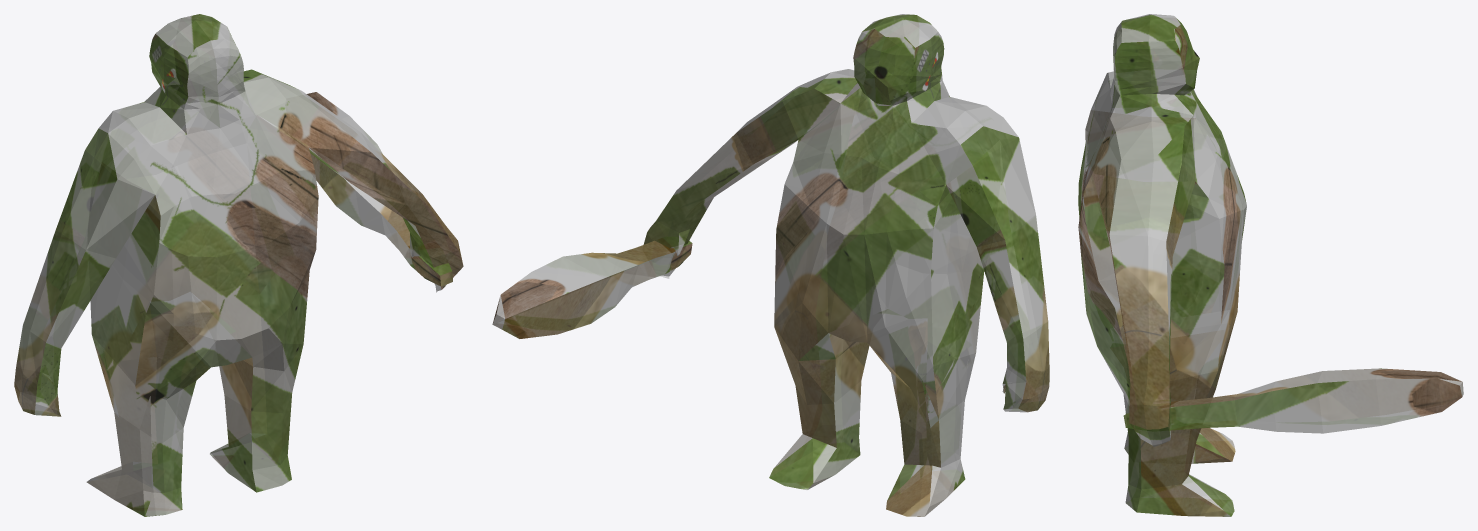
The model's file is Enemigo225.obj.
3 renders of one model, left to right at view 1: azimuth 30°, elevation 25°; view 2: azimuth 150°, elevation 25°; view 3: azimuth 270°, elevation 25°, orthographic. The views are drawn at different scales.
Parts seen in each view (by area): view 1: Cube; view 2: Cube; view 3: Cube.
Part boxes in pixels (<box>): Cube: <box>14,14,463,516</box>; Cube: <box>492,14,1049,516</box>; Cube: <box>1078,14,1463,516</box>.
Bounding box in the file's own units: 2.6 × 2.71 × 2.05.
Materials: 1 (1 with a texture image).
